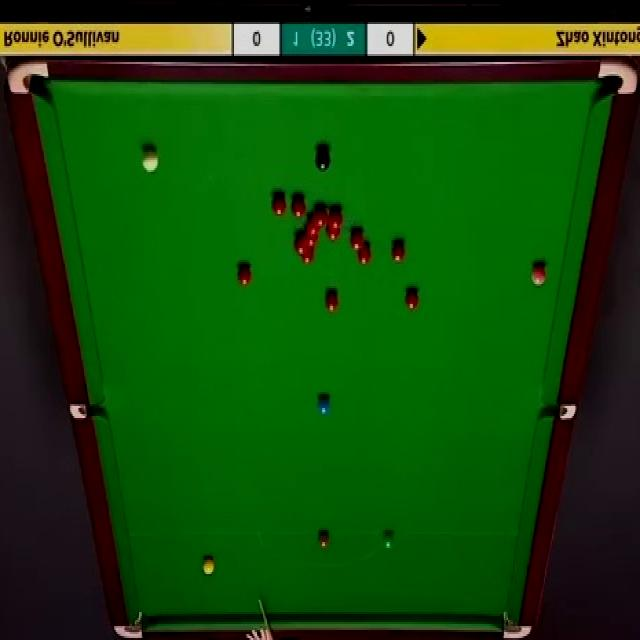black-ball: (315, 144, 331, 174)
blue-ball: (316, 394, 332, 416)
brown-ball: (317, 530, 330, 550)
green-ball: (382, 531, 395, 550)
pink-ball: (531, 262, 547, 288)
red-ball: (324, 288, 342, 315), (290, 192, 307, 220), (236, 261, 253, 288), (270, 194, 286, 218), (390, 240, 406, 264), (328, 205, 343, 230), (349, 228, 364, 252), (405, 288, 420, 312), (358, 242, 372, 266), (294, 233, 309, 254), (314, 205, 328, 227), (300, 248, 316, 266), (307, 219, 320, 235), (305, 233, 320, 246), (326, 227, 340, 240)
white-ball: (141, 146, 157, 172)
yellow-ball: (203, 554, 216, 575)
